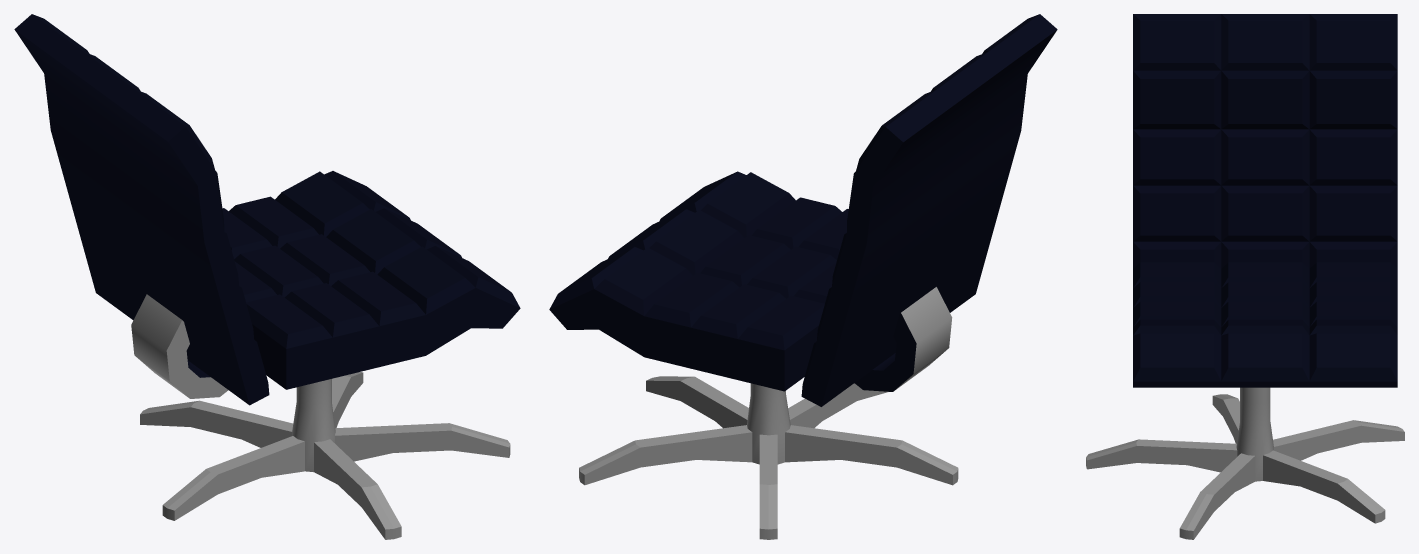
The model's file is office chair.FBX.
3 views of the same model, side by side, from view 1: azimuth 30°, elevation 25°; view 2: azimuth 150°, elevation 25°; view 3: azimuth 270°, elevation 25° (orthographic). The views are drawn at different scales.
Visible parts, largest first — view 1: Box001; view 2: Box001; view 3: Box001.
Part boxes in pixels (bbox=[...]): Box001: bbox=[14, 14, 520, 539]; Box001: bbox=[549, 14, 1057, 539]; Box001: bbox=[1086, 14, 1404, 539].
Bounding box in the file's own units: 183 × 204 × 157.
